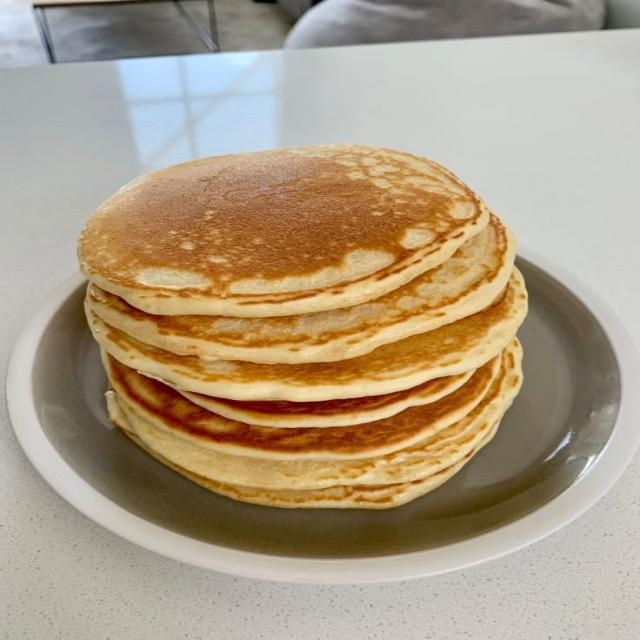pancake: (79, 145, 489, 317), (87, 216, 515, 363), (108, 343, 521, 489), (88, 269, 526, 401), (104, 353, 501, 459), (118, 425, 497, 509), (176, 370, 476, 427)
